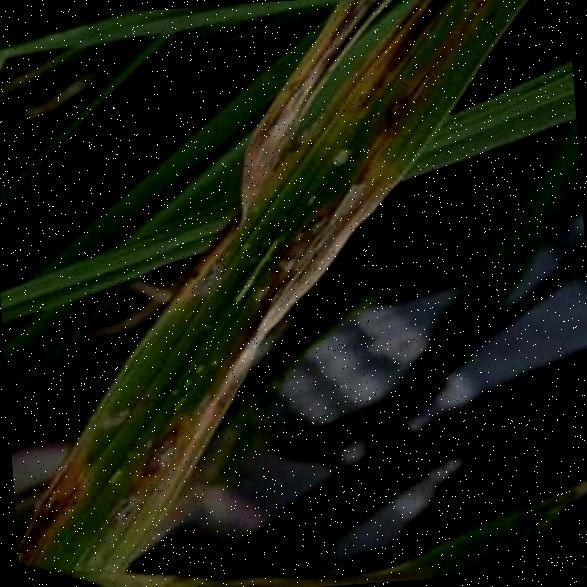Leaf_smut: (120, 418, 196, 478), (89, 482, 148, 523)
